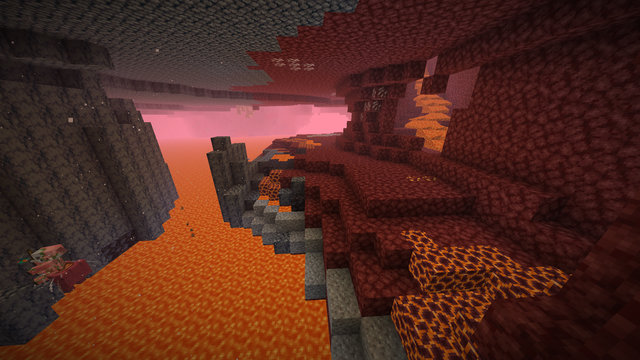nethergold: (408, 174, 439, 183)
quartz: (272, 57, 314, 71), (365, 87, 386, 110)
